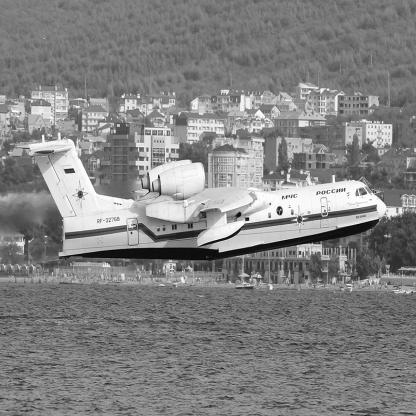Be200: (14, 133, 388, 262)
